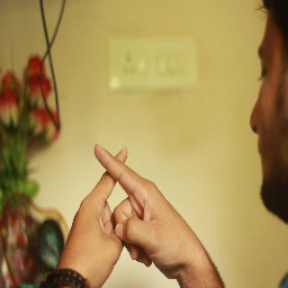X: (61, 122, 171, 226)
